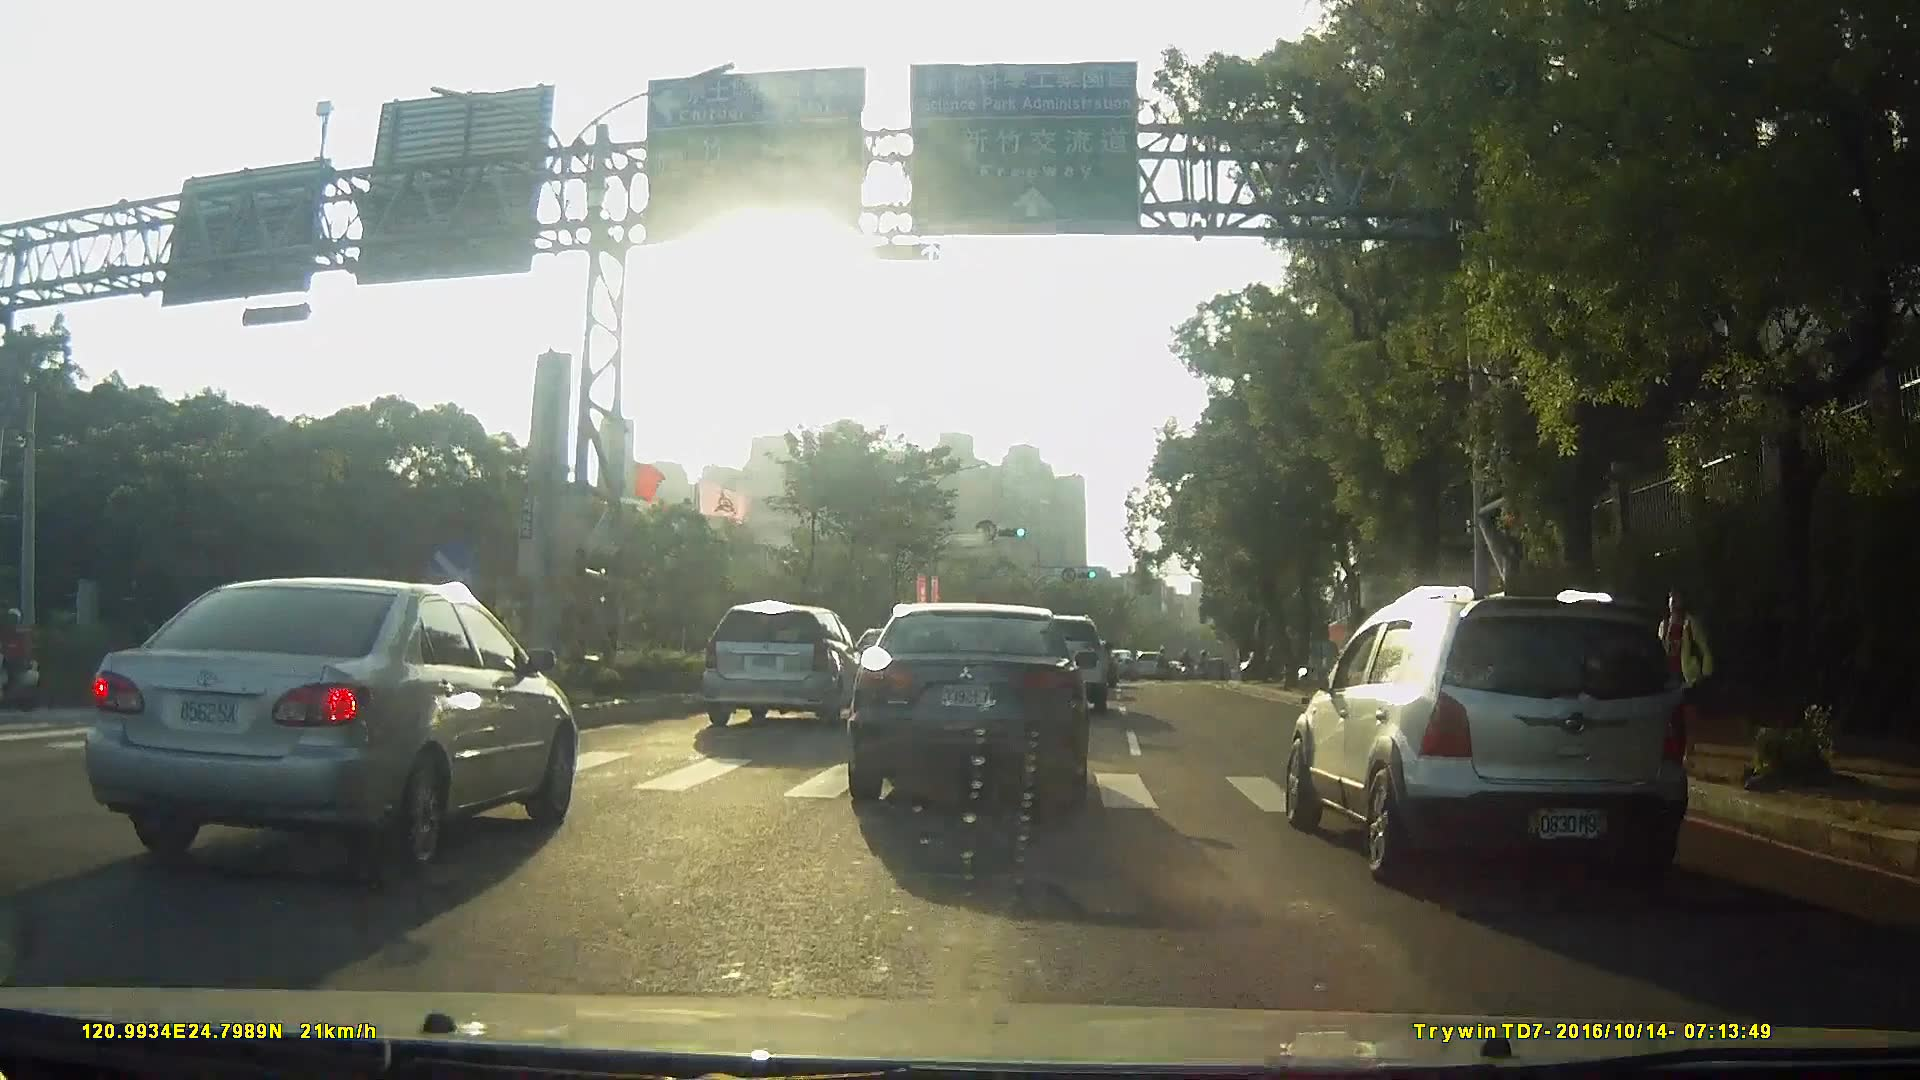pedestrian: (1636, 588, 1716, 787)
rider: (1, 611, 52, 709)
vehicle: (62, 572, 591, 880), (1269, 584, 1711, 901), (849, 594, 1113, 809), (691, 604, 864, 733), (1100, 649, 1133, 680), (1127, 652, 1160, 681)
